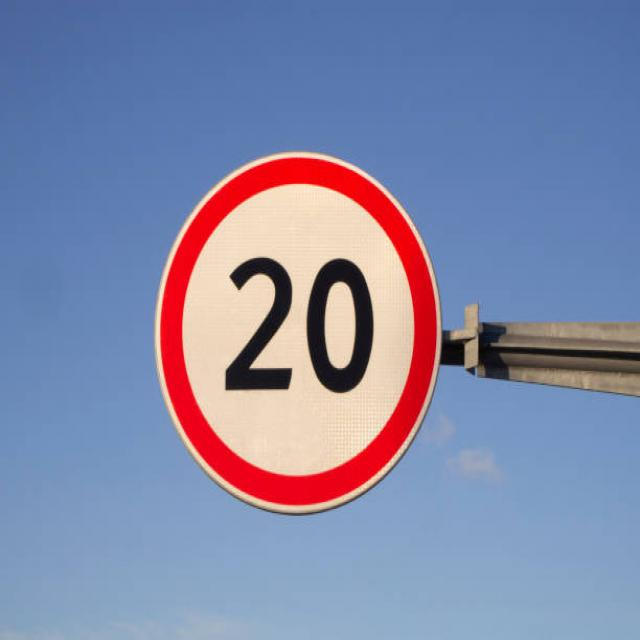speed_limit_20: (150, 136, 443, 514)
